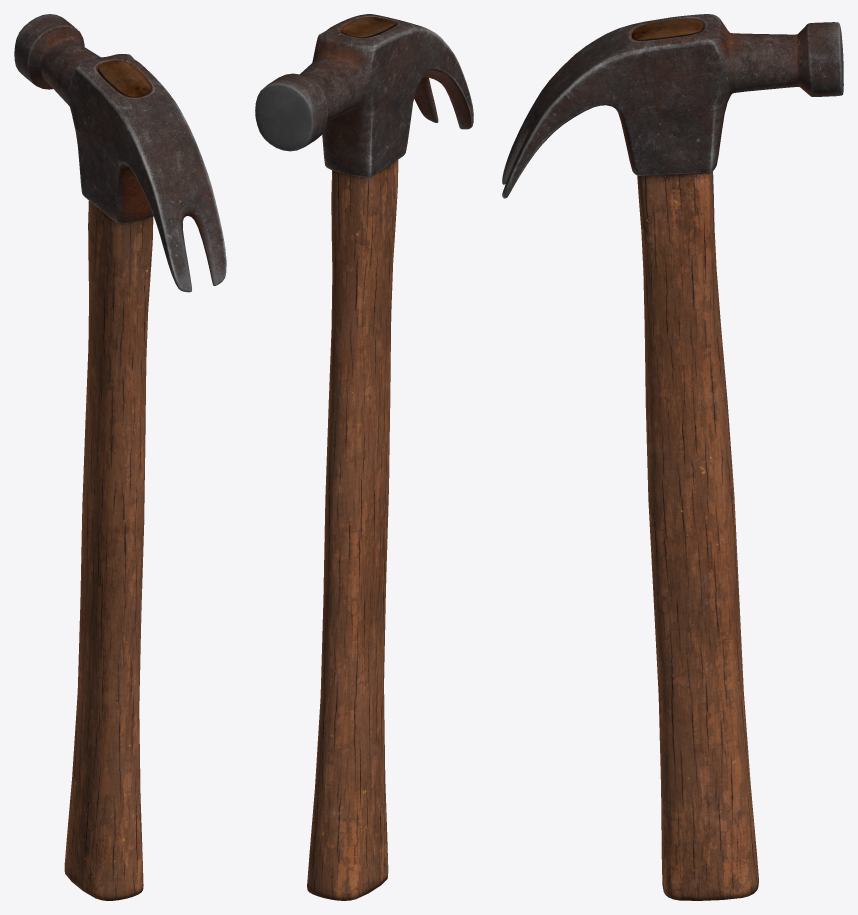
The model's file is Hammer.fbx.
3 renders of one model, left to right at view 1: azimuth 30°, elevation 25°; view 2: azimuth 150°, elevation 25°; view 3: azimuth 270°, elevation 25°, orthographic. The views are drawn at different scales.
Visible parts, largest first — view 1: Hammer_Root; view 2: Hammer_Root; view 3: Hammer_Root.
Part boxes in pixels (left/top/right/bottom): Hammer_Root: left=14, top=14, right=226, bottom=900; Hammer_Root: left=255, top=14, right=473, bottom=900; Hammer_Root: left=502, top=14, right=843, bottom=900.
Size of the model in its own units: 2.32 by 32.06 by 11.49.
Materials: 1 (1 with a texture image).
